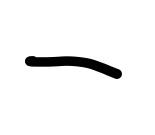minus: (24, 54, 122, 80)
